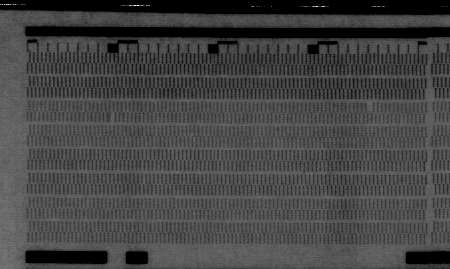Broken hole: (364, 101, 376, 114)
Oblique printing: (106, 112, 118, 123)
